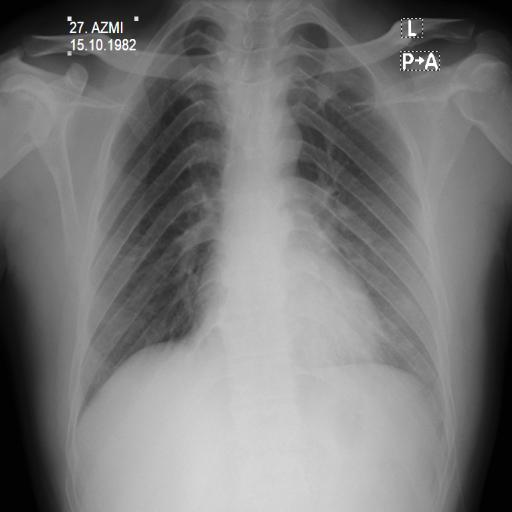kardiomegali: (60, 11, 457, 455)
